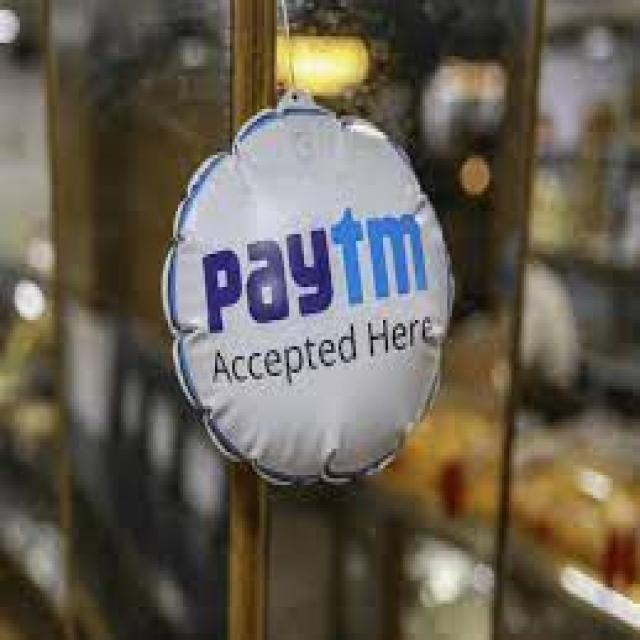fully_visible: (200, 189, 429, 323)
